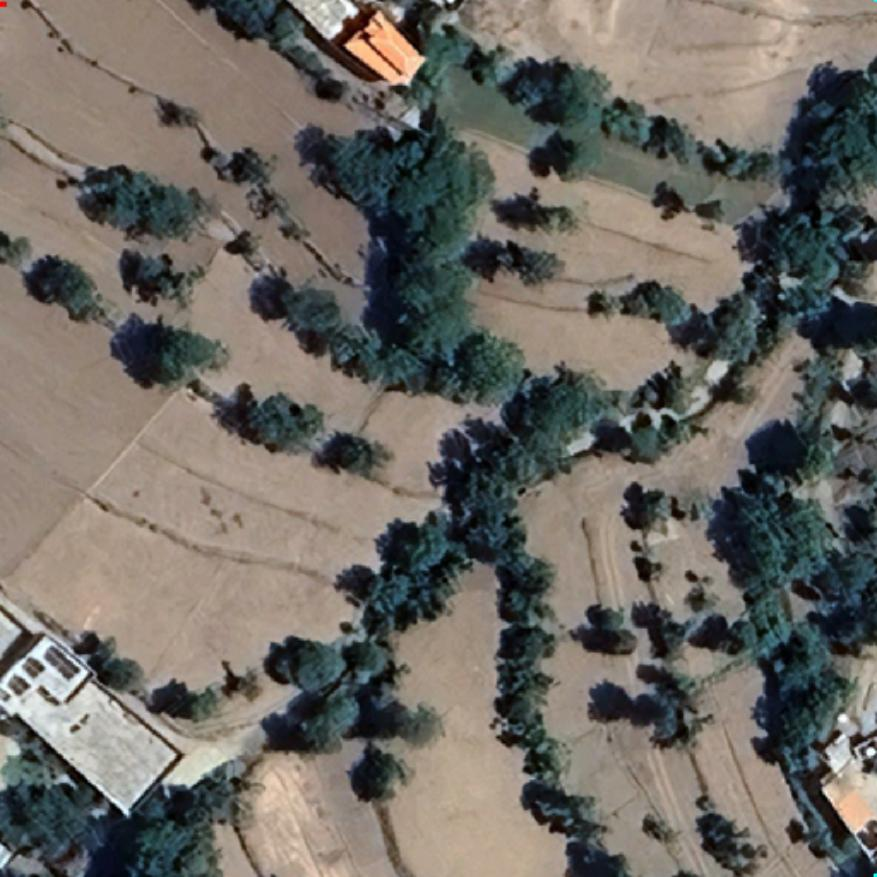Solarpanel: (38, 646, 80, 684), (22, 655, 46, 680), (5, 674, 31, 696)
